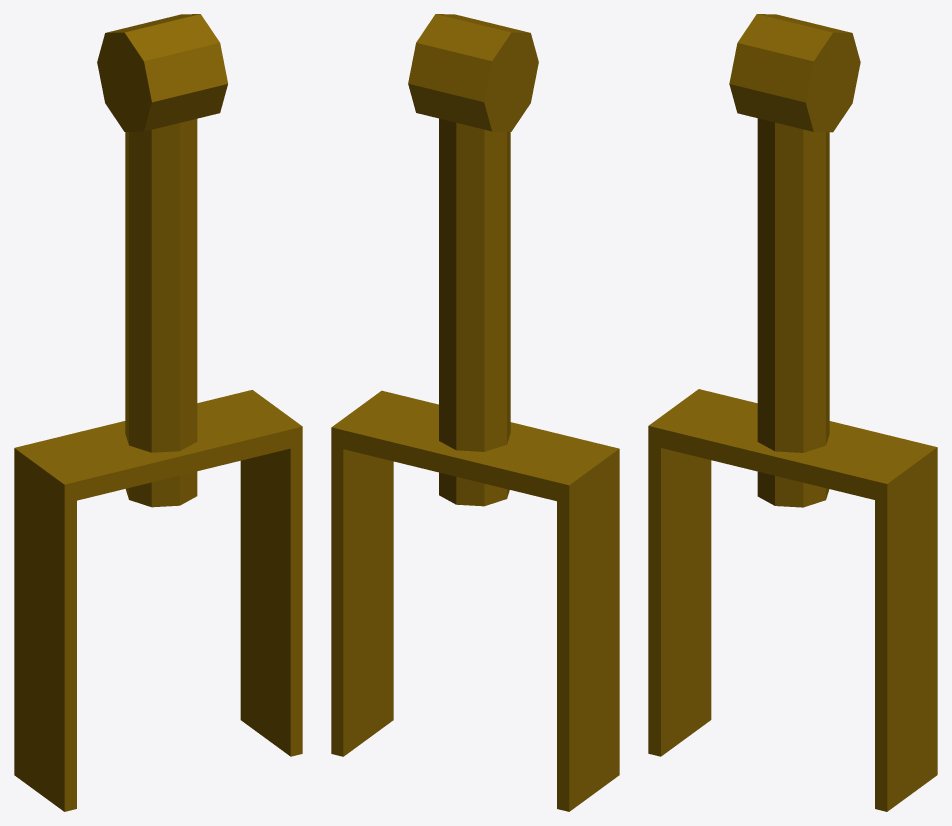
File: Lamp_04_Tube_B.fbx
3 views of the same model, side by side, from view 1: azimuth 30°, elevation 25°; view 2: azimuth 150°, elevation 25°; view 3: azimuth 330°, elevation 25° (orthographic).
Visible parts, largest first — view 1: Lamp_04_Tube_B; view 2: Lamp_04_Tube_B; view 3: Lamp_04_Tube_B.
Part boxes in pixels (x1,y1,x2,y2): Lamp_04_Tube_B: [14, 14, 302, 811]; Lamp_04_Tube_B: [331, 14, 619, 811]; Lamp_04_Tube_B: [648, 14, 937, 811].
Size of the model in its own units: 15.33 by 45.57 by 6.12.
